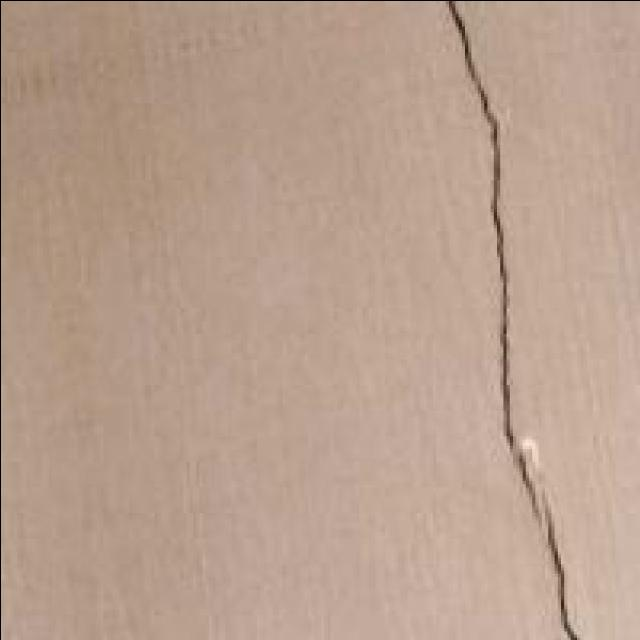SurfaceCrack: (420, 0, 590, 638)
